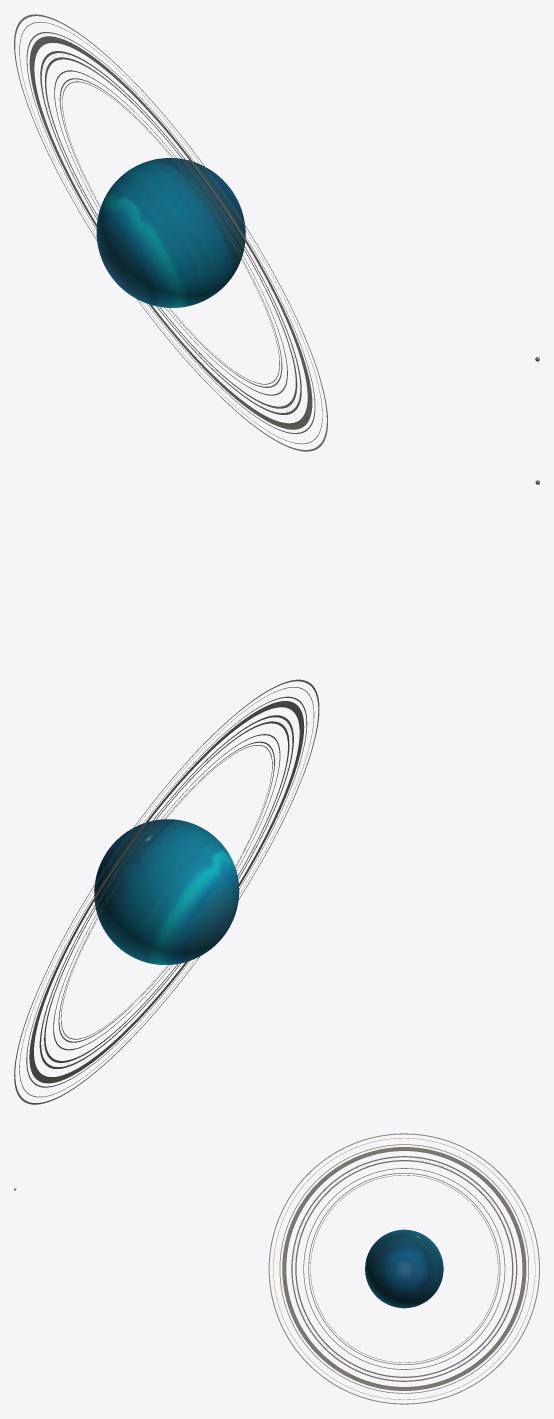
Rendered from uranus.glb.
3 views of the same model, one above another, from view 1: azimuth 30°, elevation 25°; view 2: azimuth 150°, elevation 25°; view 3: azimuth 270°, elevation 25° (orthographic). The views are drawn at different scales.
Parts seen in each view (by area): view 1: uranus1_A, uranus2_A; view 2: uranus1_A, uranus2_A; view 3: uranus2_A, uranus1_A.
Part boxes in pixels (bbox=[...]): uranus1_A: bbox=[96, 158, 245, 307]; uranus2_A: bbox=[14, 14, 327, 451]; uranus1_A: bbox=[94, 819, 239, 964]; uranus2_A: bbox=[14, 679, 319, 1104]; uranus2_A: bbox=[268, 1133, 539, 1404]; uranus1_A: bbox=[365, 1229, 443, 1308].
Bounding box in the file's own units: 684 × 1629 × 3424.
Materials: 3 (3 with a texture image).
